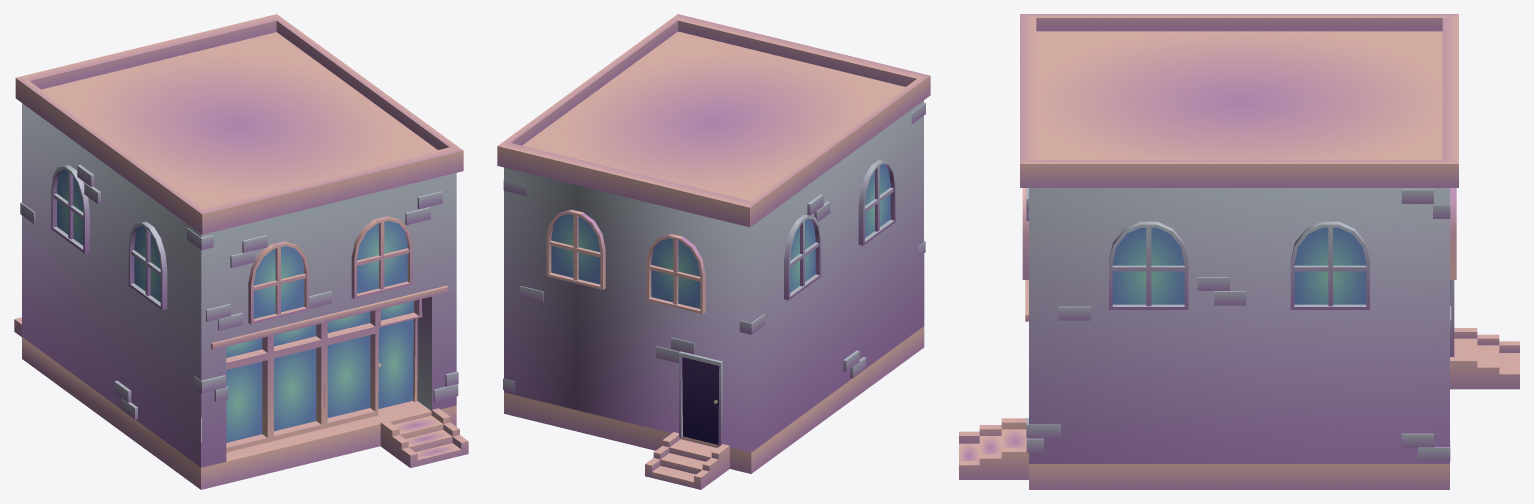
The picture shows the model from 3 angles, left to right: view 1: azimuth 30°, elevation 25°; view 2: azimuth 150°, elevation 25°; view 3: azimuth 270°, elevation 25°; orthographic projection. The views are drawn at different scales.
Parts seen in each view (by area): view 1: SM_2F_08; view 2: SM_2F_08; view 3: SM_2F_08.
Boxes of the visible parts, x1,y1,x2,y2 form: SM_2F_08: (14, 14, 468, 489); SM_2F_08: (497, 14, 930, 489); SM_2F_08: (959, 14, 1519, 489).
Bounding box in the file's own units: 7.78 × 12.09 × 7.81.
